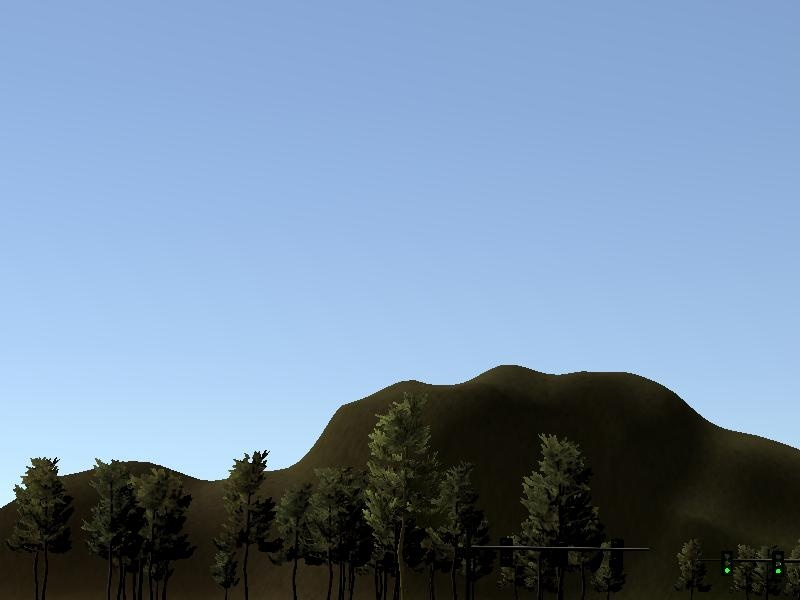GREEN: (769, 549, 786, 578), (718, 549, 735, 576)
